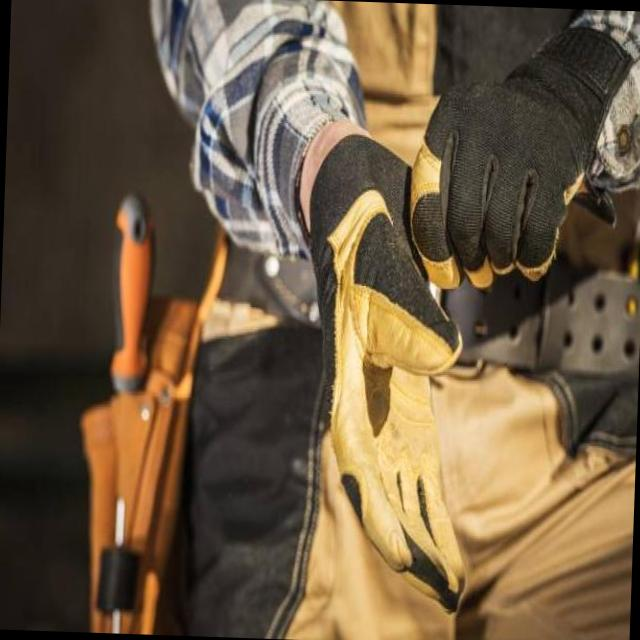Gloves: (268, 138, 506, 608), (403, 23, 638, 291)
